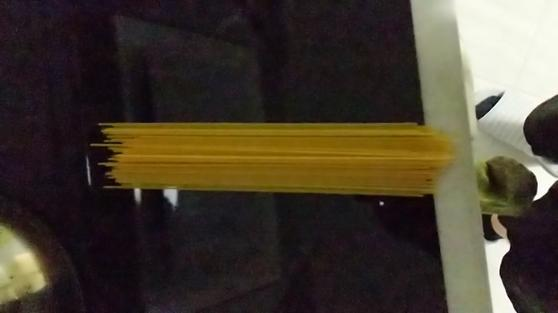white_bread: (75, 108, 470, 210)
